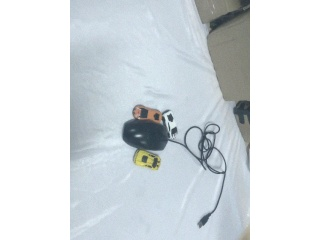toy_car: (122, 105, 177, 150), (134, 150, 161, 170)
